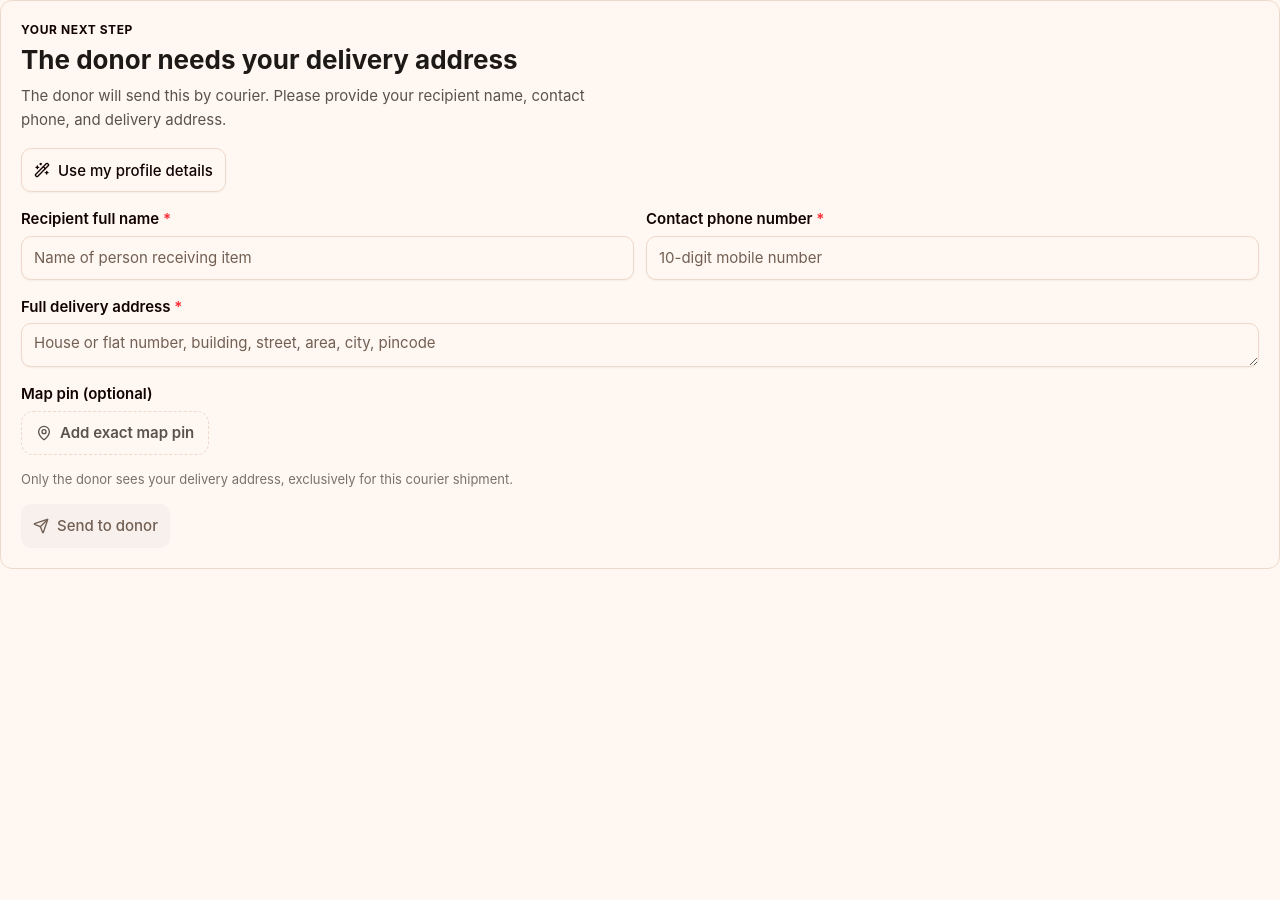
Test: recipient › is asked for delivery address when requested, but NOT asked for courier details
Expected: the heading "The donor needs your delivery address" is shown, [21,44,518,75]
Expected: the button "Send to donor" is shown, [21,504,170,548]
Recipient can autofill using profile details
Click the button "Use my profile details" at (123, 170), box [21,148,226,192]
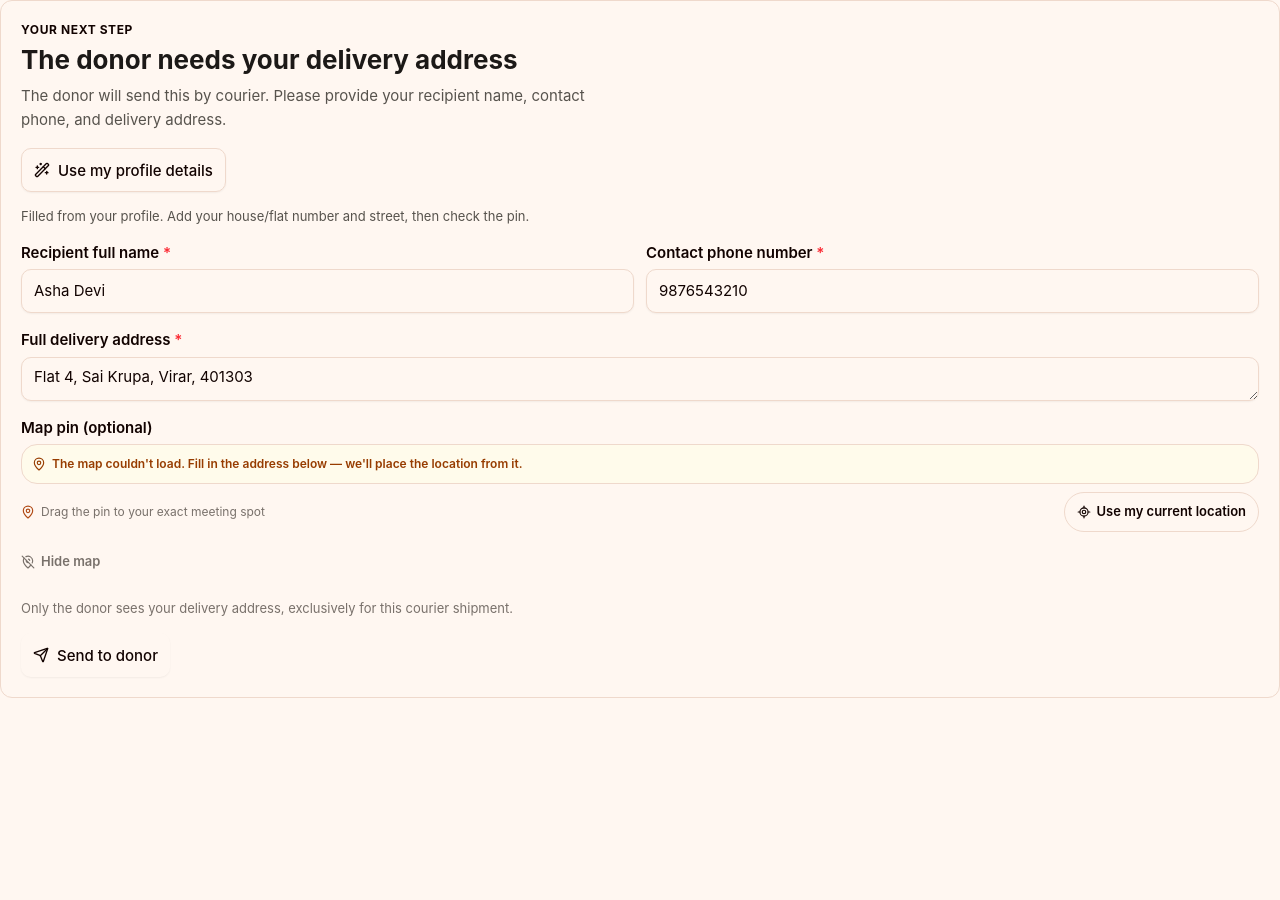
Now the field labelled "Recipient full name *" holds "Asha Devi", box [21,269,634,313]
Now the field labelled "Contact phone number *" holds "9876543210", box [646,269,1259,313]
Now the text box labelled "Full delivery address *" holds "Flat 4, Sai Krupa, Virar, 401303", box [21,357,1259,401]
